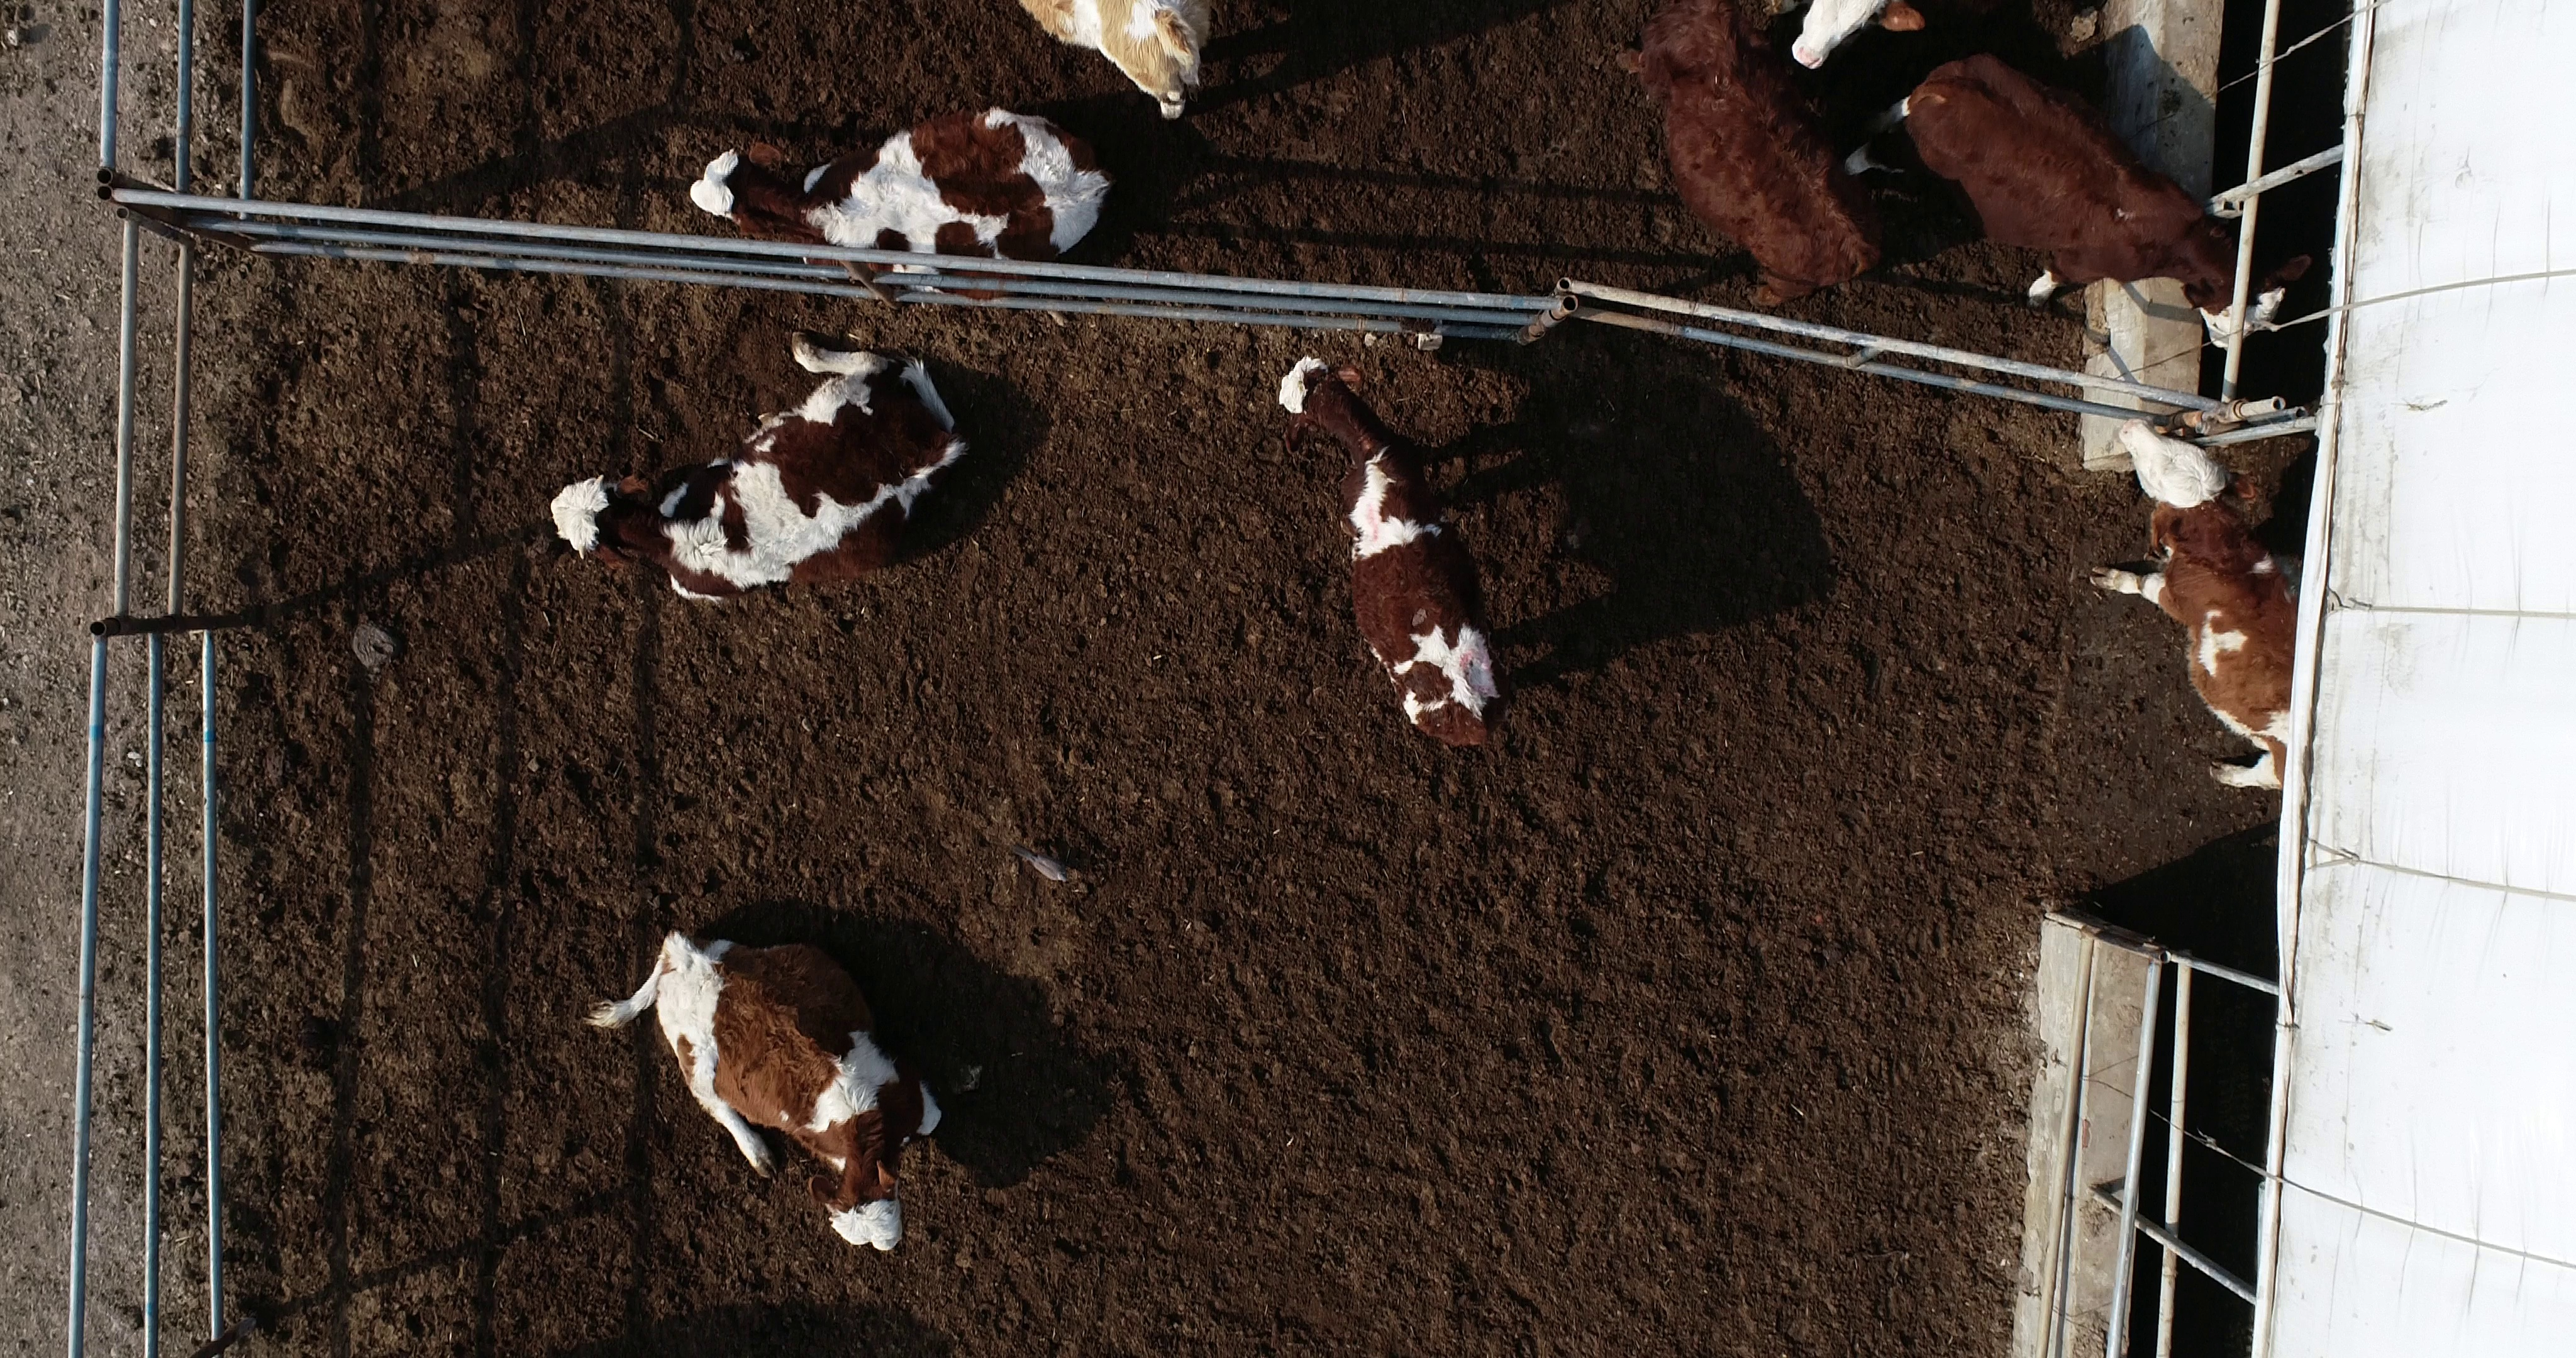cattle: (576, 918, 949, 1259), (550, 327, 978, 620), (1274, 351, 1521, 751), (687, 95, 1118, 298)
